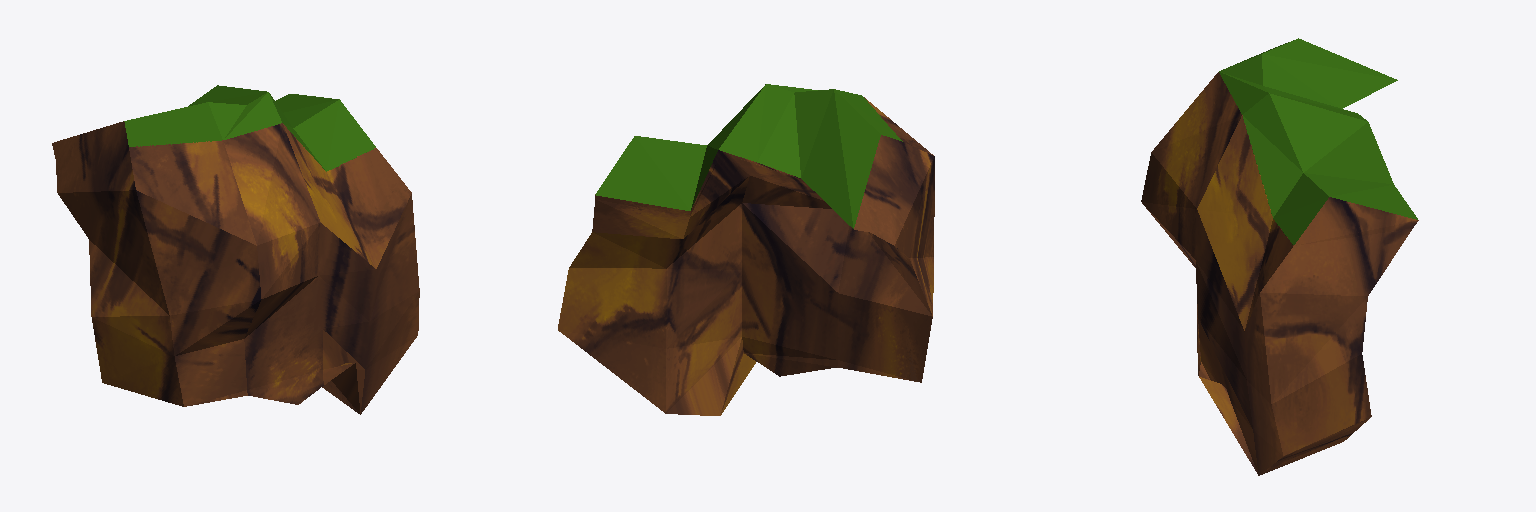
3 renders of one model, left to right at view 1: azimuth 30°, elevation 25°; view 2: azimuth 150°, elevation 25°; view 3: azimuth 270°, elevation 25°, orthographic.
Visible parts, largest first — view 1: Cube.009_Cube.008; view 2: Cube.009_Cube.008; view 3: Cube.009_Cube.008.
Part boxes in pixels (left/top/right/bottom): Cube.009_Cube.008: left=52, top=85, right=419, bottom=414; Cube.009_Cube.008: left=558, top=84, right=934, bottom=415; Cube.009_Cube.008: left=1141, top=38, right=1418, bottom=475.
Bounding box in the file's own units: 121 × 123 × 88.57.
Materials: 1 (1 with a texture image).